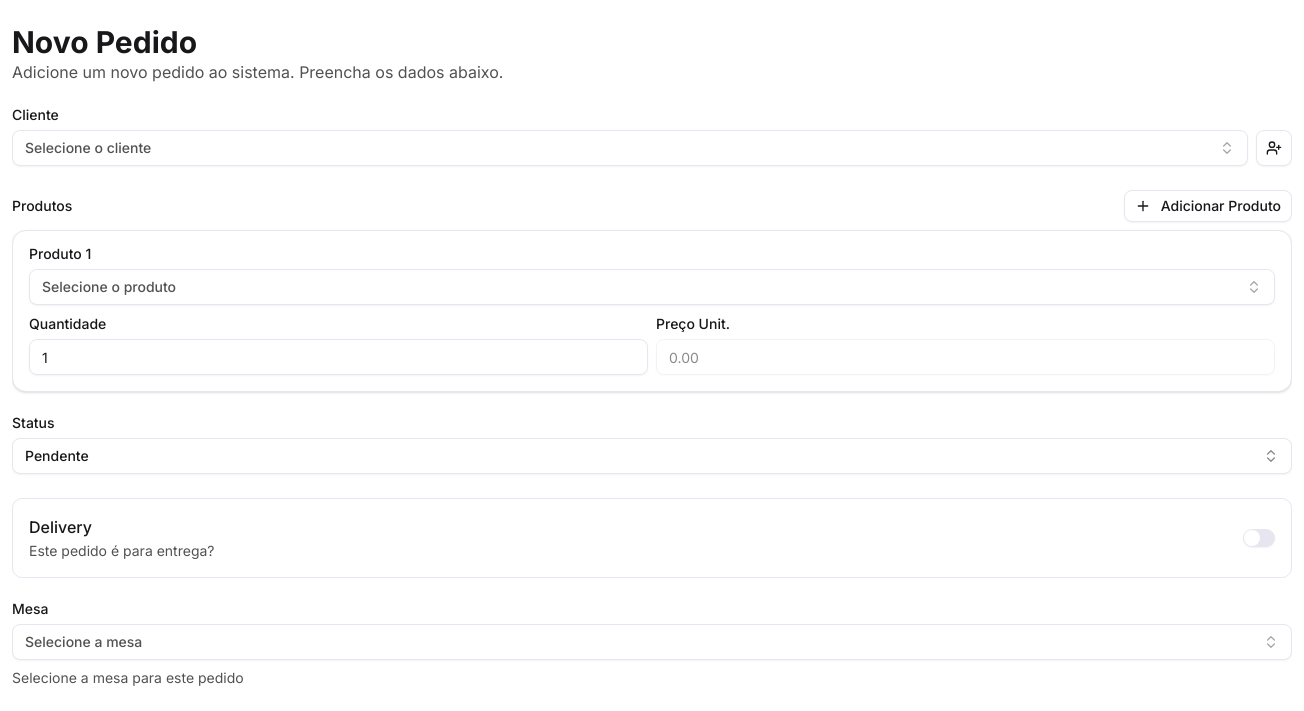
Test: OrderFormDialog - preenchimento de Cidade de entrega pelo CEP › cidade de entrega permanece preenchida mesmo depois que a lista de cidades termina de carregar
Click the switch named "Delivery".
click(1259, 538)  # box [1243, 529, 1275, 547]
(page scrolled)
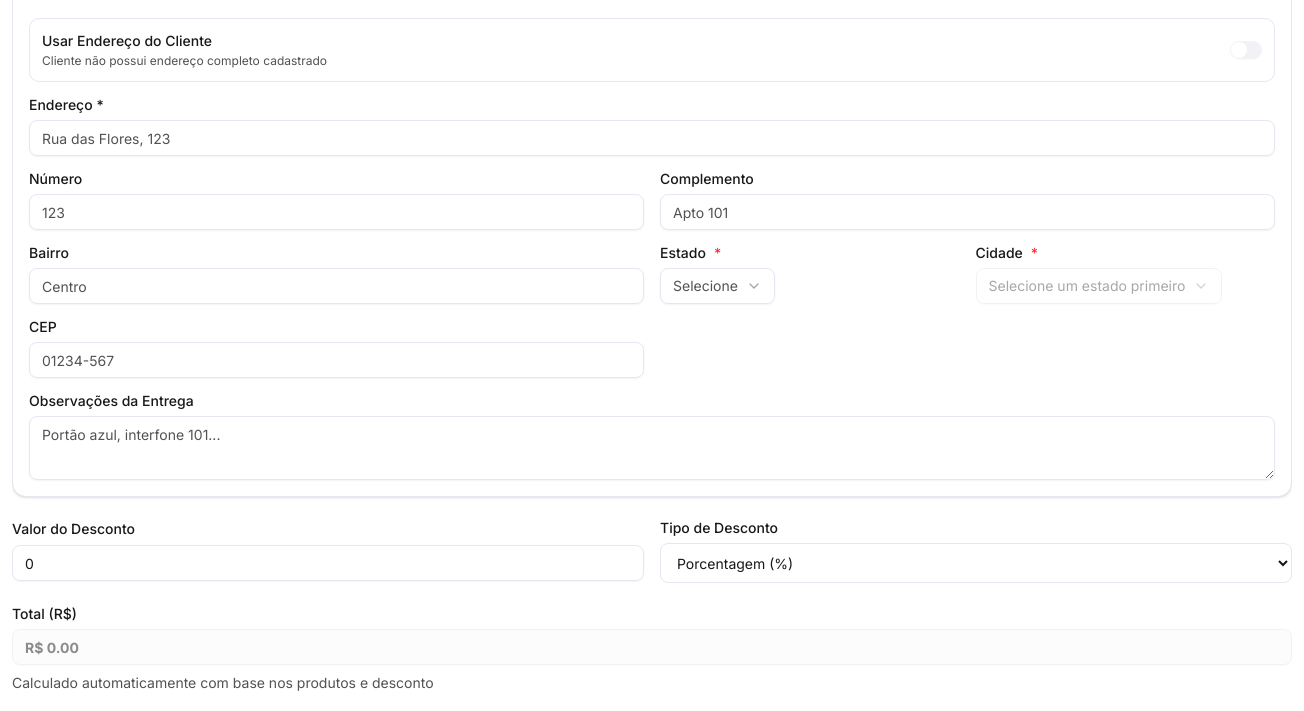
Type "01001000" into the field with placeholder "01234-567".
click(336, 360); type("01001000")  # box [29, 342, 644, 378]
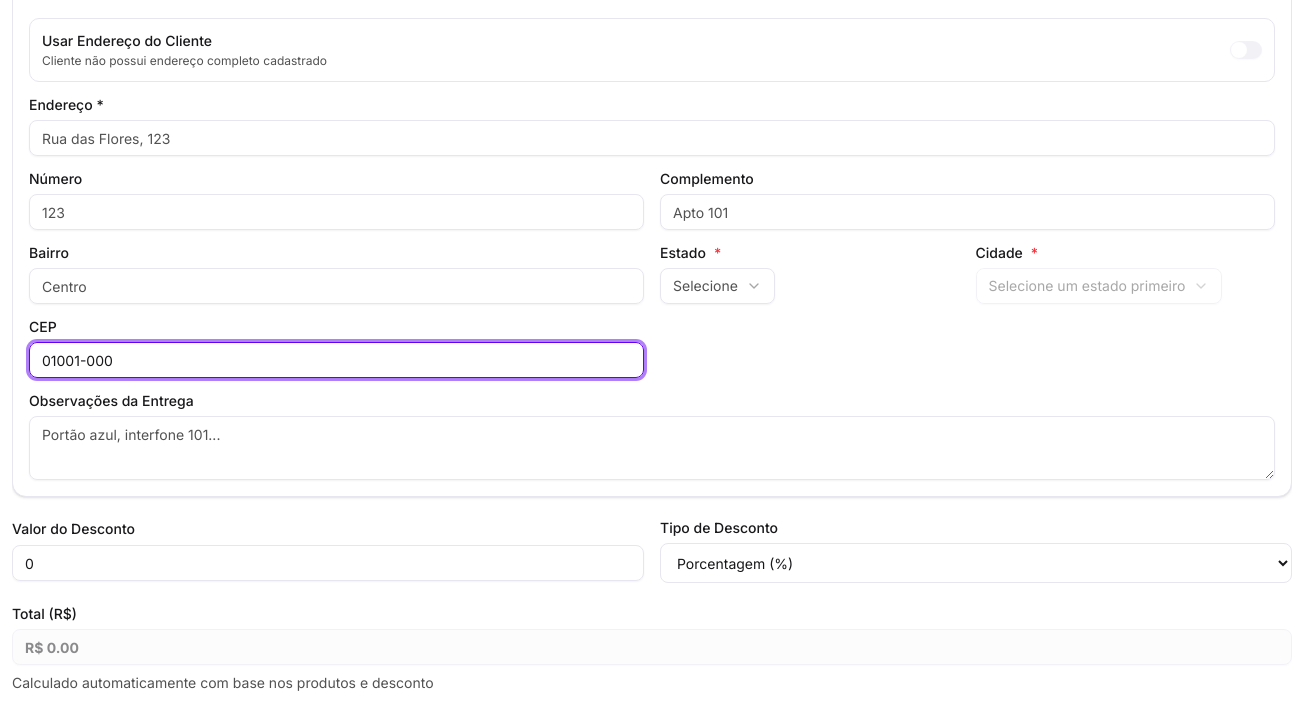
Press Tab
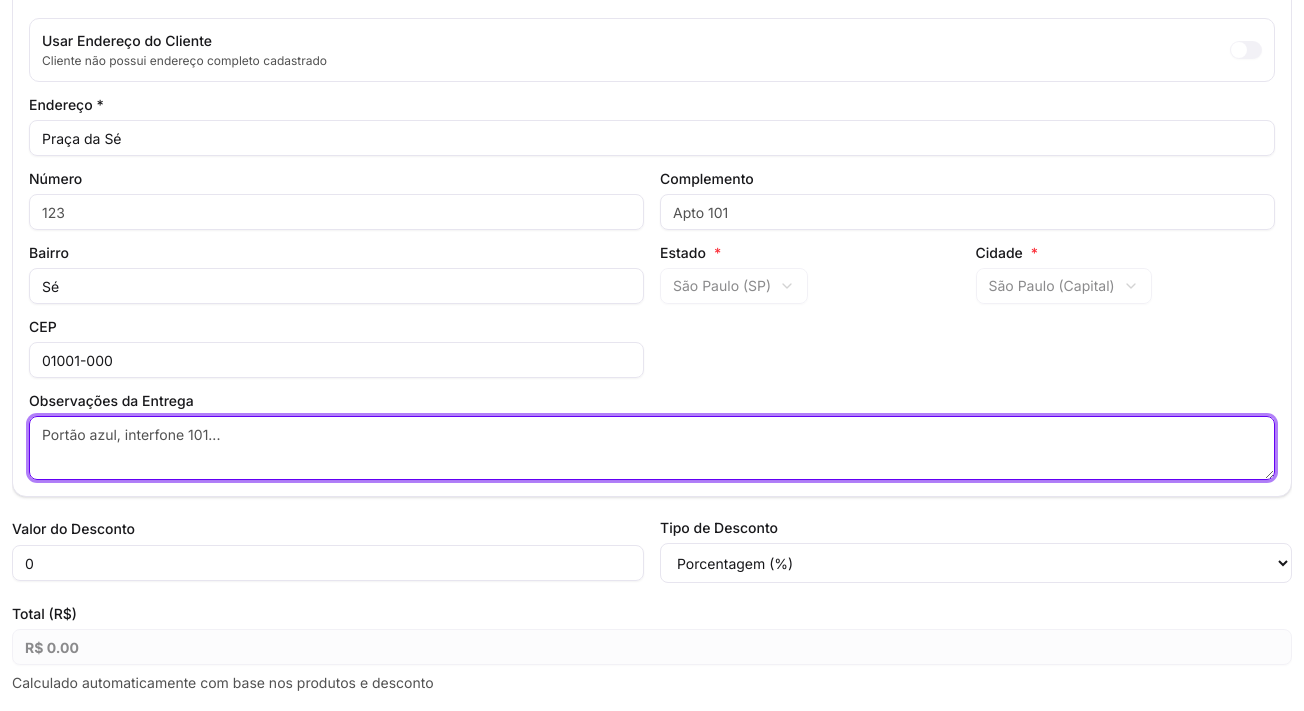
Now the field with placeholder "Rua das Flores, 123" holds "Praça da Sé", box [29, 120, 1275, 156]
Now the dropdown named "Cidade" shows "São Paulo", box [976, 268, 1152, 304]
